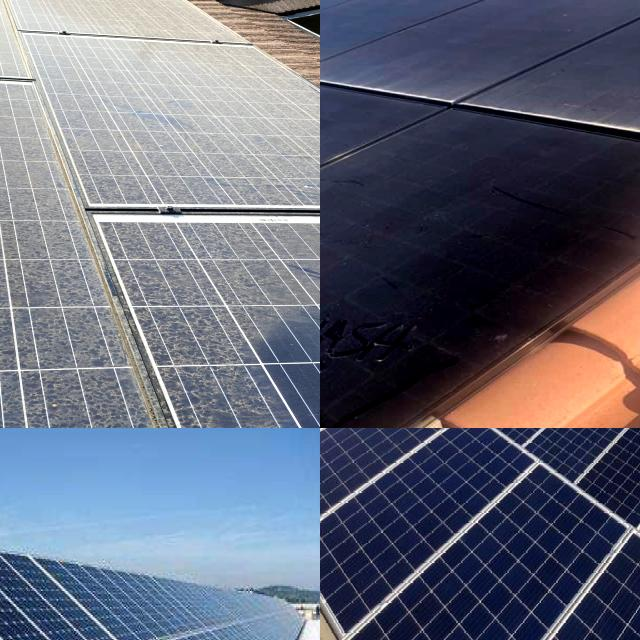crack: (346, 433, 631, 640), (320, 428, 547, 640), (0, 520, 320, 640), (459, 536, 640, 640), (563, 428, 640, 555), (529, 428, 640, 508)
dust: (320, 247, 563, 428), (320, 79, 467, 222), (445, 116, 587, 226), (139, 228, 247, 370), (320, 119, 434, 231), (0, 335, 133, 425), (95, 122, 259, 192), (0, 185, 84, 315), (479, 0, 632, 70), (50, 42, 180, 120), (0, 182, 72, 320), (266, 234, 320, 380), (0, 336, 70, 428), (0, 0, 94, 63), (320, 0, 410, 65), (0, 107, 80, 176), (20, 0, 175, 35), (220, 66, 290, 120), (0, 120, 52, 176)
